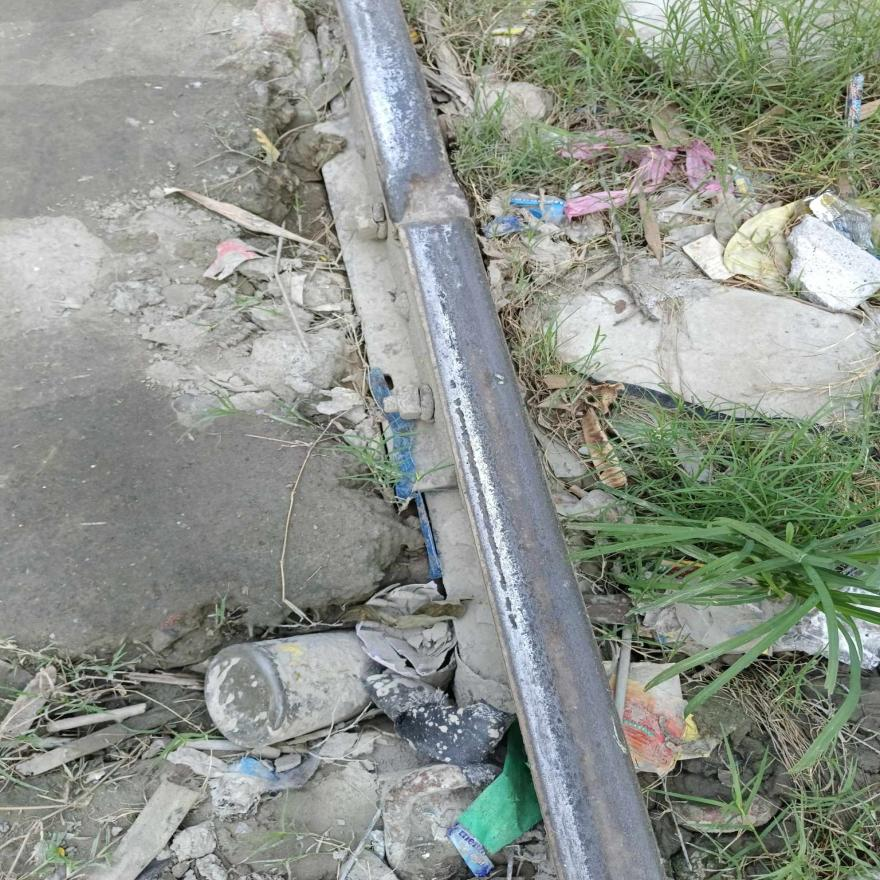railway-gap: (321, 152, 530, 286)
